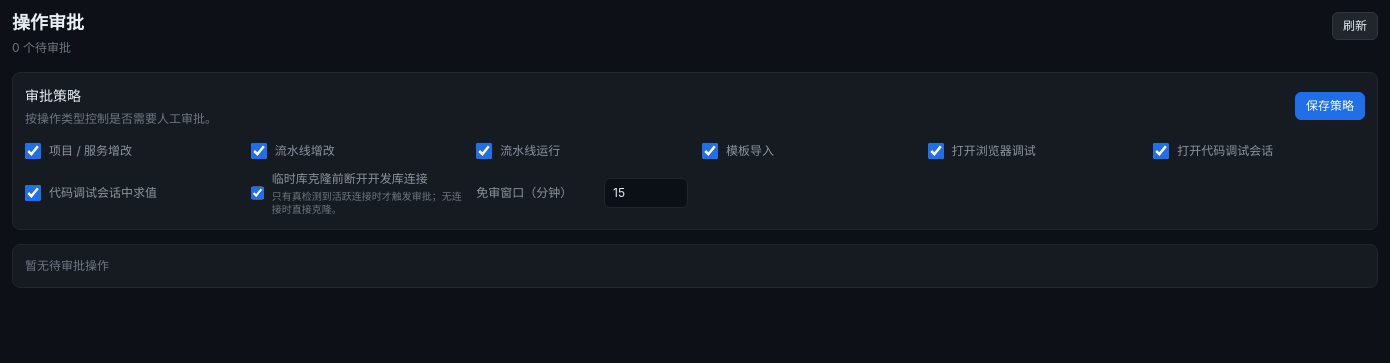
Scenario: OperationApprovalsTab › shows a confirmation after saving approval policy
Click the button with test id "approval-settings-save" at (1330, 106), box [1295, 92, 1365, 120]
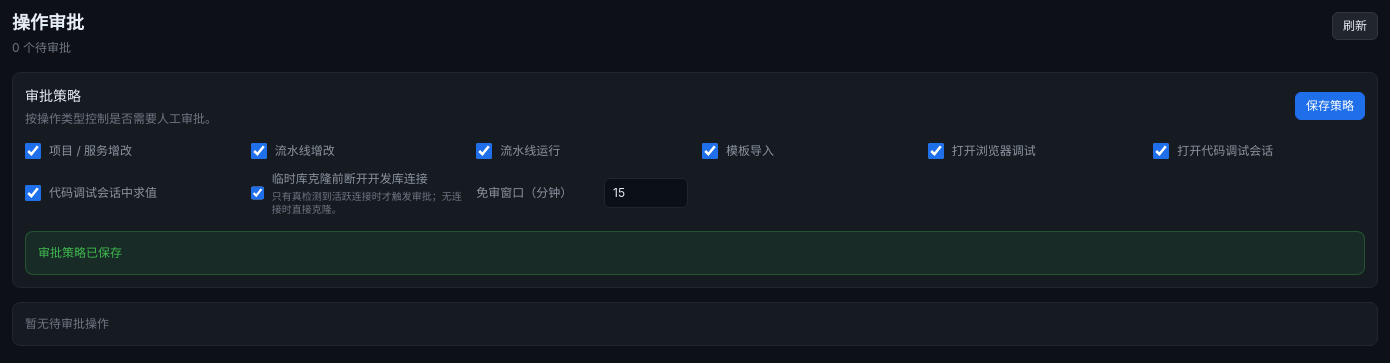
Result: the message "审批策略已保存" is shown at [25, 231, 1365, 275]
Result: the message with test id "approval-policy-save-notice" reads "审批策略已保存" at [38, 245, 122, 260]
